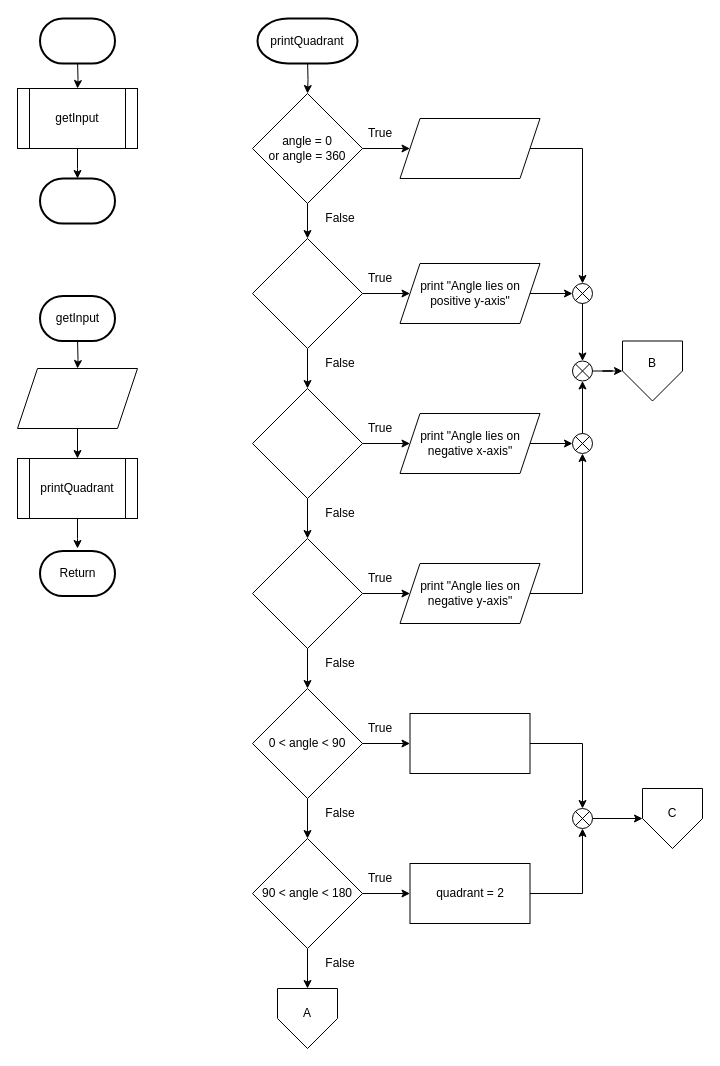
Some shapes in this 720 by 1066 pixel diagram are drawn without their labels. The shapes that lost their labels are listed below. From the top down, each one's box as (x1, y1, x2, y2) in pixels, then its label:
(38, 17, 116, 64): Start
(399, 118, 540, 178): print "Angle lies on positive x-axis"
(38, 177, 116, 224): Stop
(252, 238, 362, 348): angle = 90
(16, 368, 138, 428): get angle
(252, 388, 362, 498): angle = 180
(252, 538, 362, 648): angle = 270
(409, 712, 530, 774): quadrant = 1
